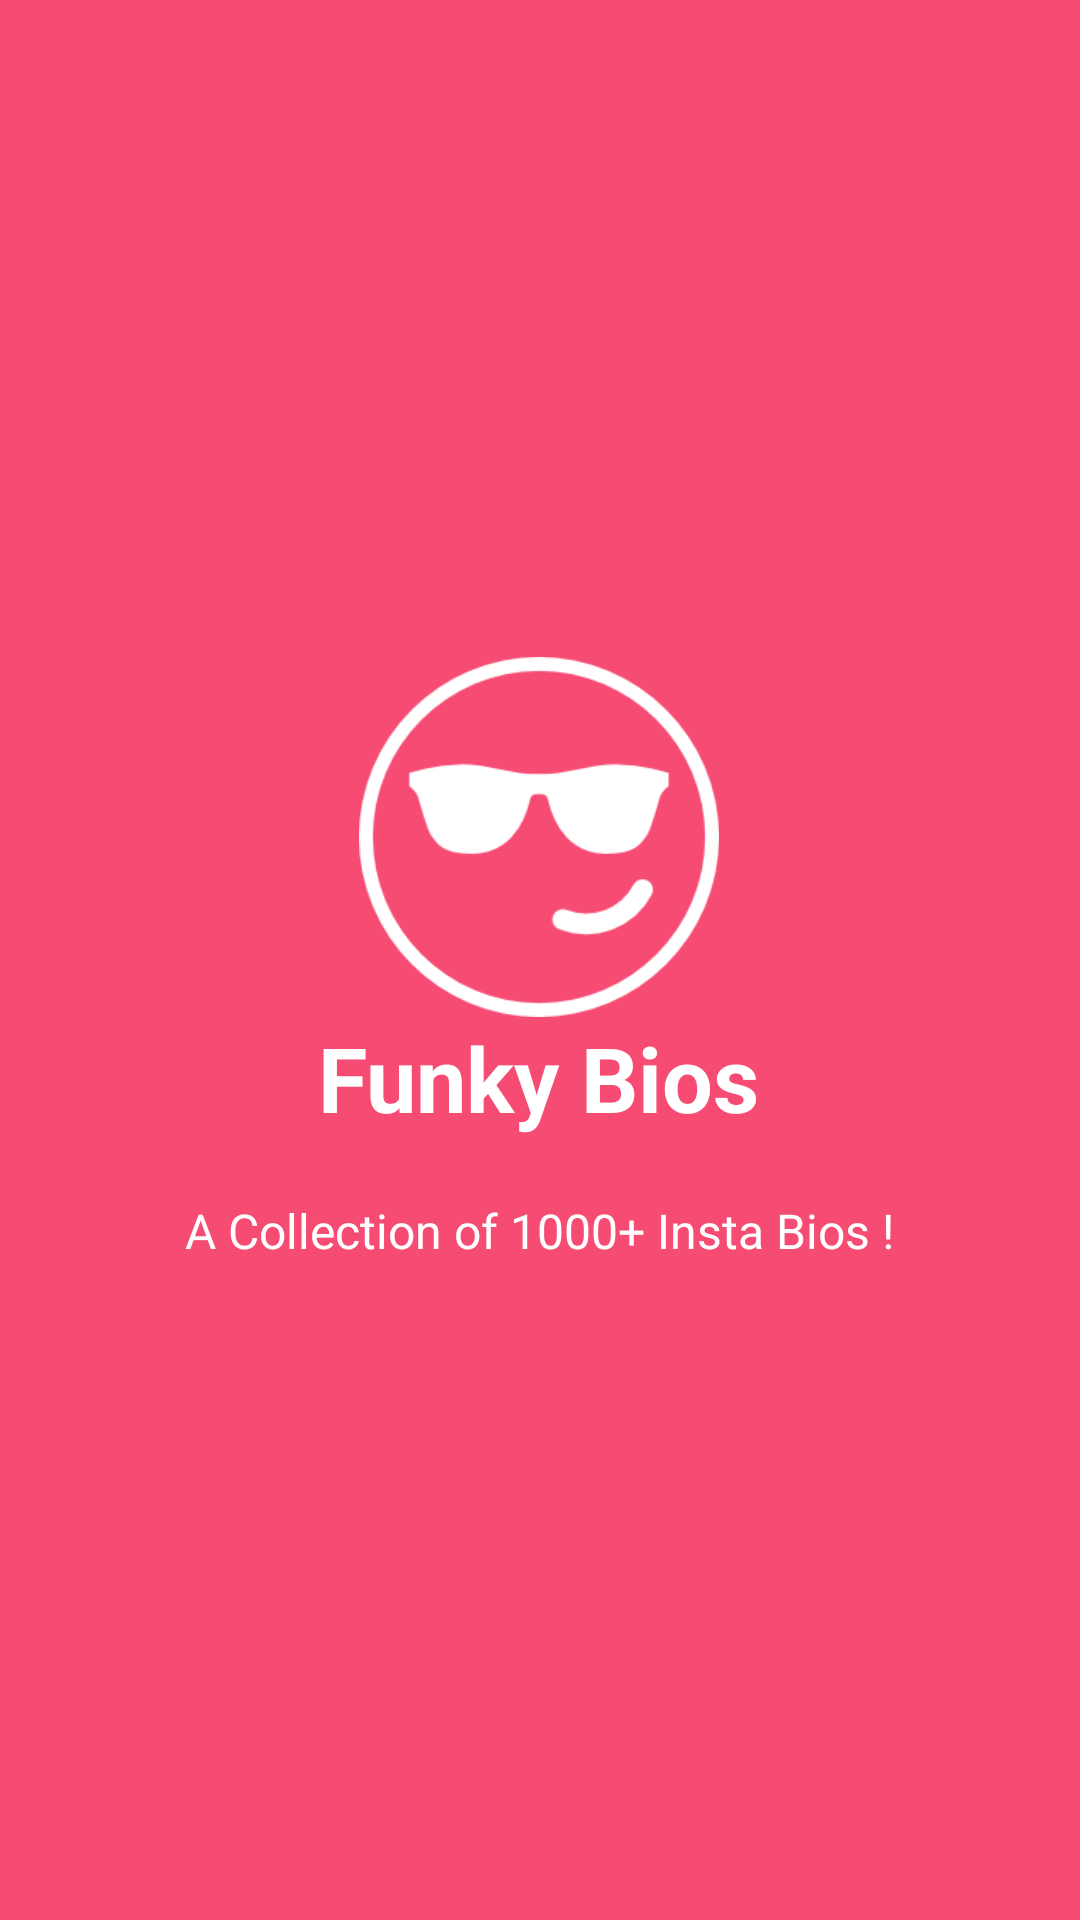

Icon bounding boxes for this 1080*1920 phone screenshot, format (x1, y1, x2, y2):
cool: (359, 657, 719, 1017)
